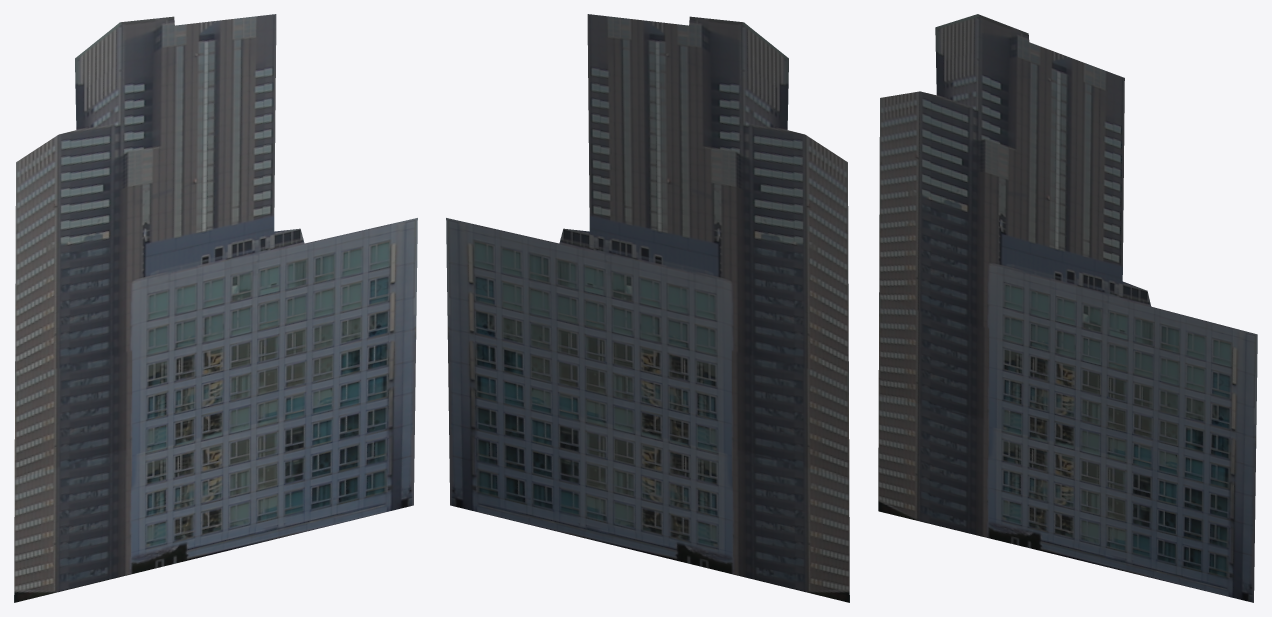
File: Buildings_C.fbx
3 views of the same model, side by side, from view 1: azimuth 30°, elevation 25°; view 2: azimuth 150°, elevation 25°; view 3: azimuth 330°, elevation 25° (orthographic). The views are drawn at different scales.
Visible parts, largest first — view 1: Buildings_C; view 2: Buildings_C; view 3: Buildings_C.
Part boxes in pixels (x1=…): Buildings_C: x1=14, y1=14, x2=417, y2=602; Buildings_C: x1=446, y1=14, x2=849, y2=602; Buildings_C: x1=878, y1=14, x2=1257, y2=602.
Size of the model in its own units: 2126 by 2791 by 0.
Materials: 1 (1 with a texture image).
